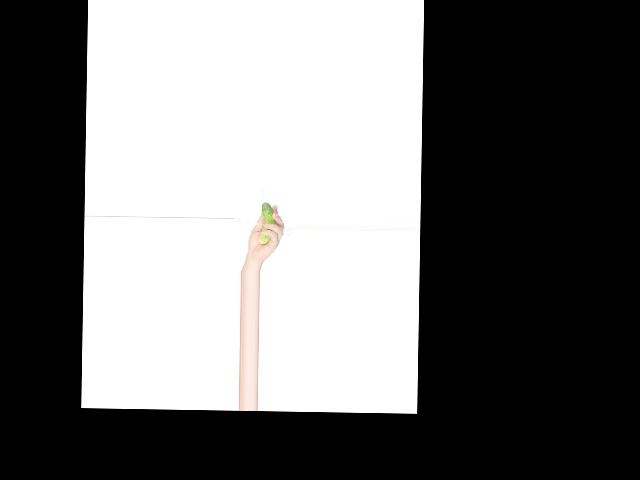cucumber: (259, 202, 275, 244)
